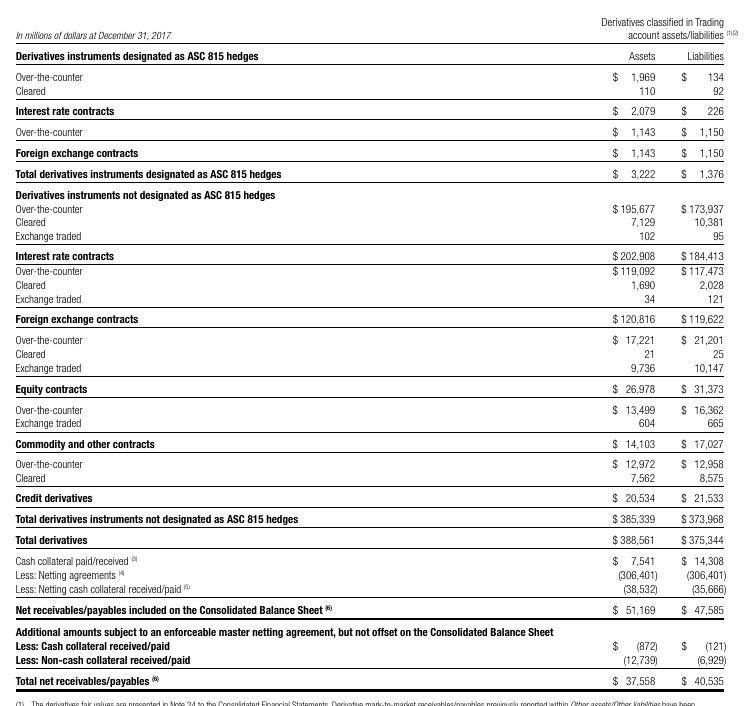table: (0, 0, 753, 706)
